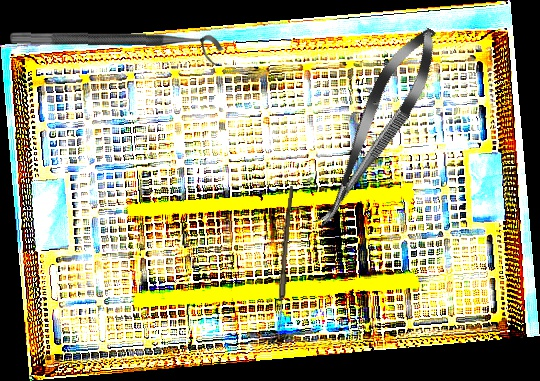Fixation Ring: (9, 31, 225, 66)
Micro Scissor: (301, 18, 452, 238)
Surgical Spoon: (275, 185, 294, 340)
